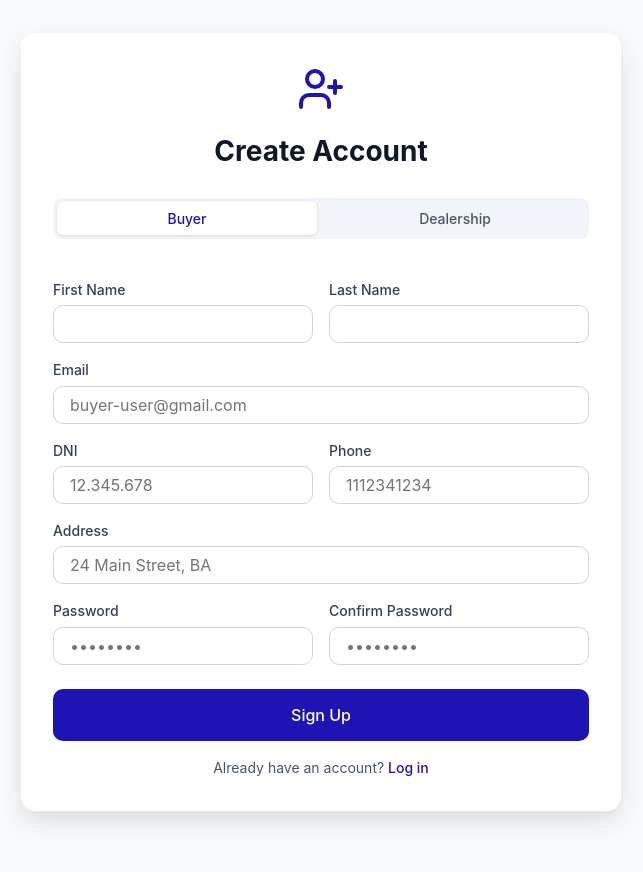
Test: RegisterPage › User Type Toggle › should switch back to buyer mode from dealership mode
Click the button "Dealership": (455, 218) [325,202,585,235]
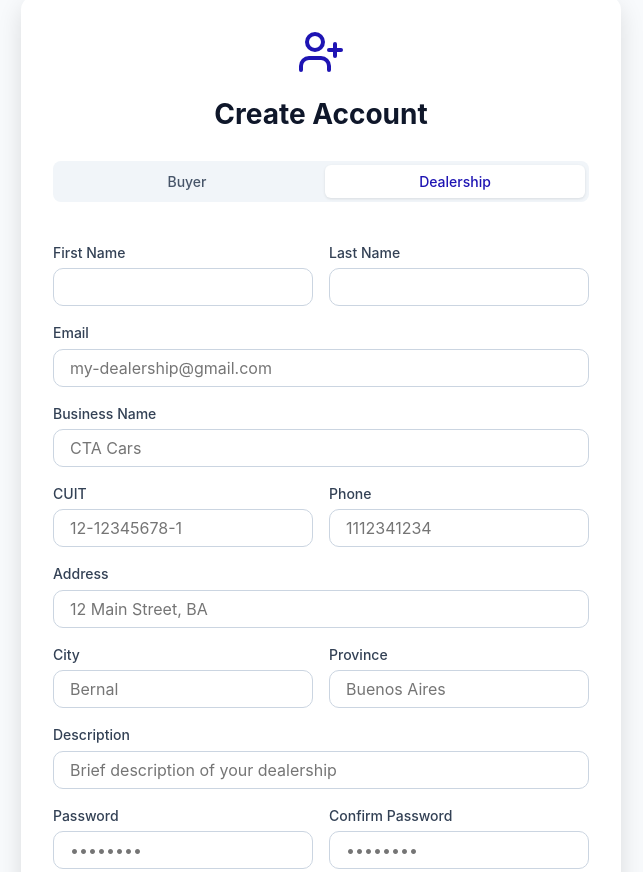
Click the button "Buyer": (187, 181) [57,165,317,198]
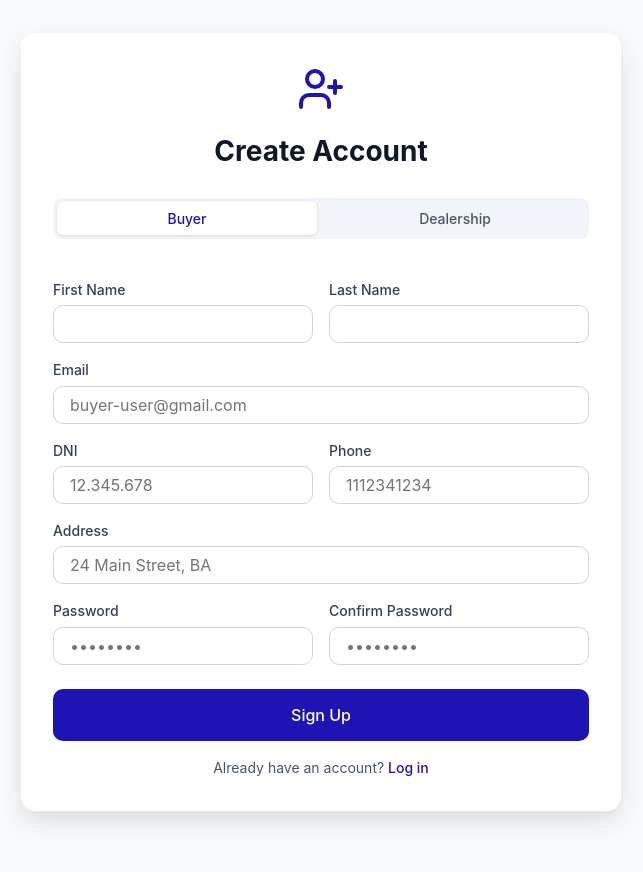
Expected: the field labelled "DNI" is shown, [53,466,313,504]
Expected: the label labelled "Business Name" is gone
Expected: the label labelled "CUIT" is gone
